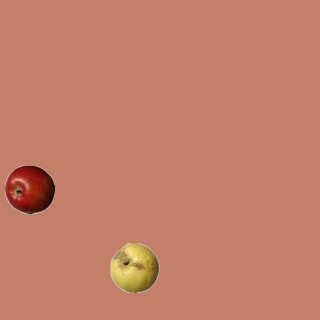Apple Braeburn: (4, 164, 54, 214)
Apple Golden 1: (109, 242, 159, 292)
